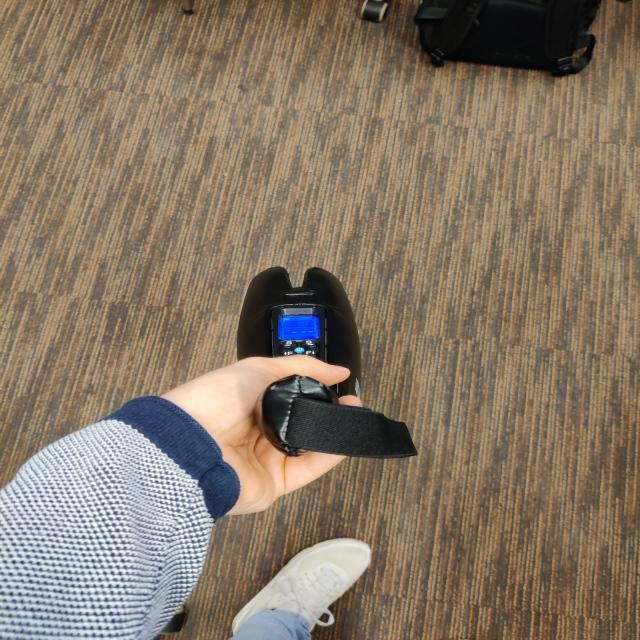paddle: (235, 262, 367, 456)
